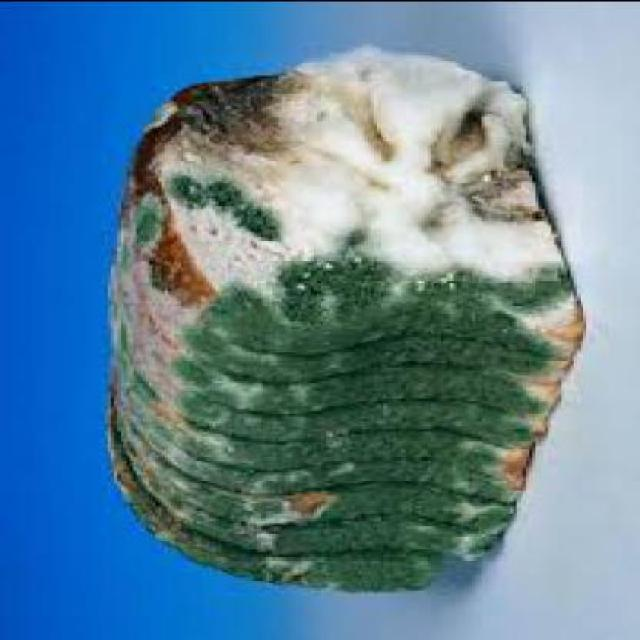BIODEGRADABLE: (105, 48, 585, 594)
